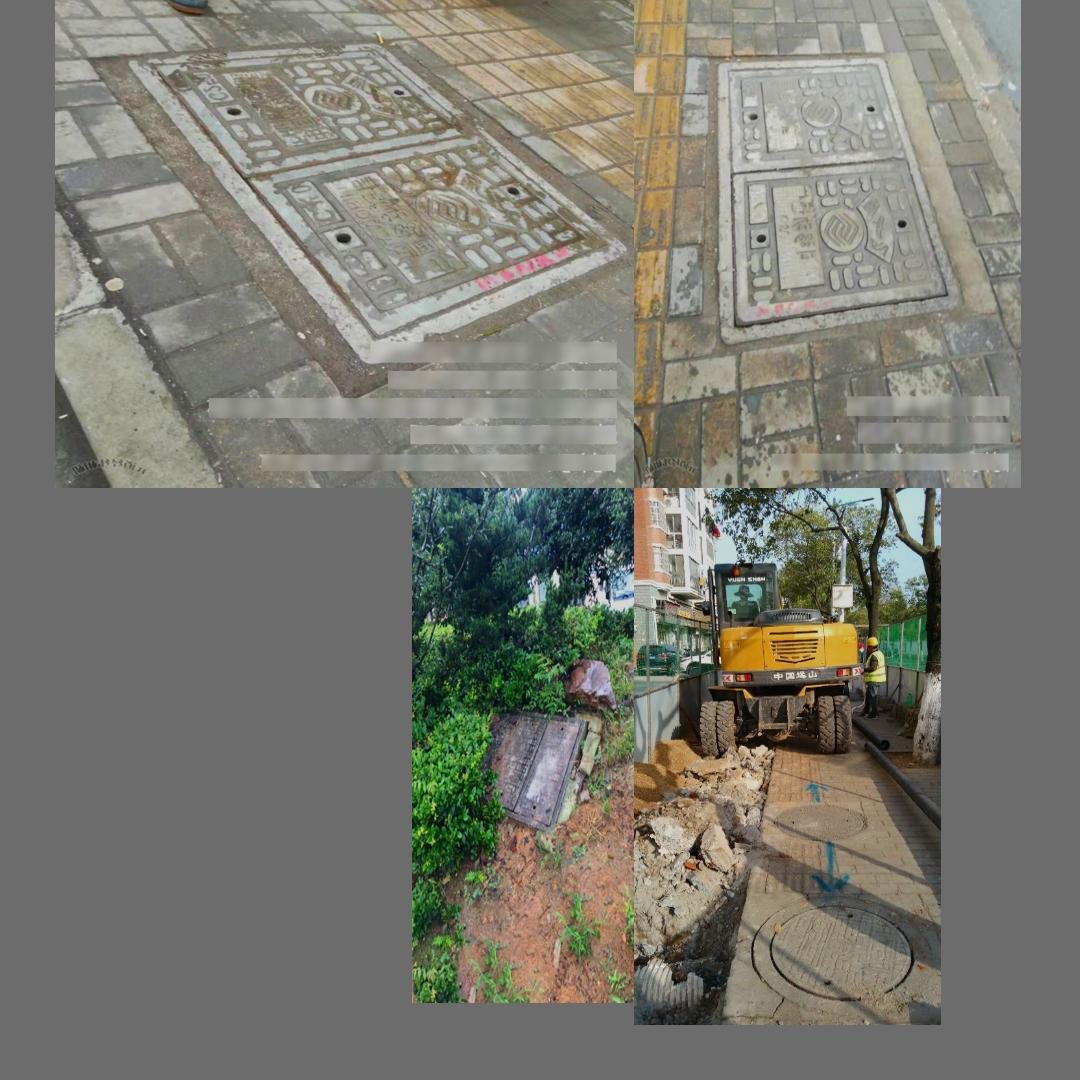good: (128, 43, 629, 366), (718, 57, 964, 345), (753, 896, 933, 1015), (484, 706, 586, 830), (777, 802, 870, 842)
